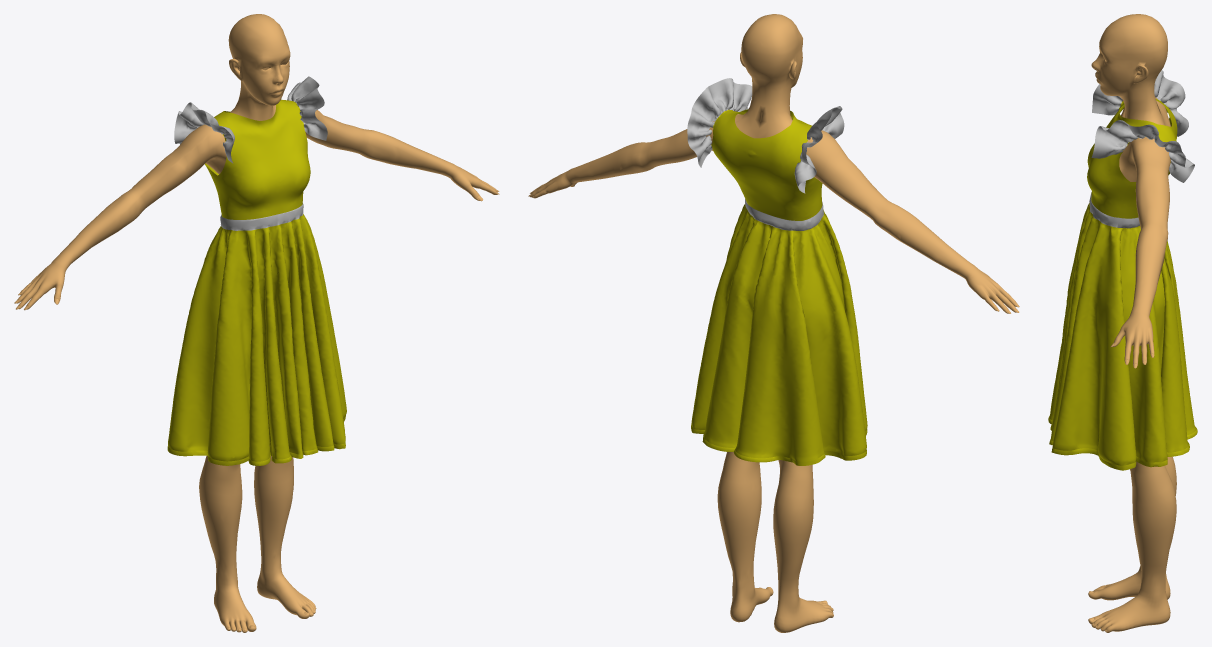
The model's file is dress10.glb.
3 views of the same model, side by side, from view 1: azimuth 30°, elevation 25°; view 2: azimuth 150°, elevation 25°; view 3: azimuth 270°, elevation 25° (orthographic).
Visible parts, largest first — view 1: PinkDrees#14 (OBJ), Body; view 2: PinkDrees#14 (OBJ), Body; view 3: PinkDrees#14 (OBJ), Body.
Part boxes in pixels (x1,y1,x2,y2): PinkDrees#14 (OBJ): (167, 76, 346, 465); Body: (17, 14, 498, 632); PinkDrees#14 (OBJ): (687, 78, 867, 465); Body: (529, 14, 1016, 632); PinkDrees#14 (OBJ): (1048, 70, 1197, 470); Body: (1088, 14, 1176, 632).
Bounding box in the file's own units: 1.58 × 1.85 × 0.4187.
